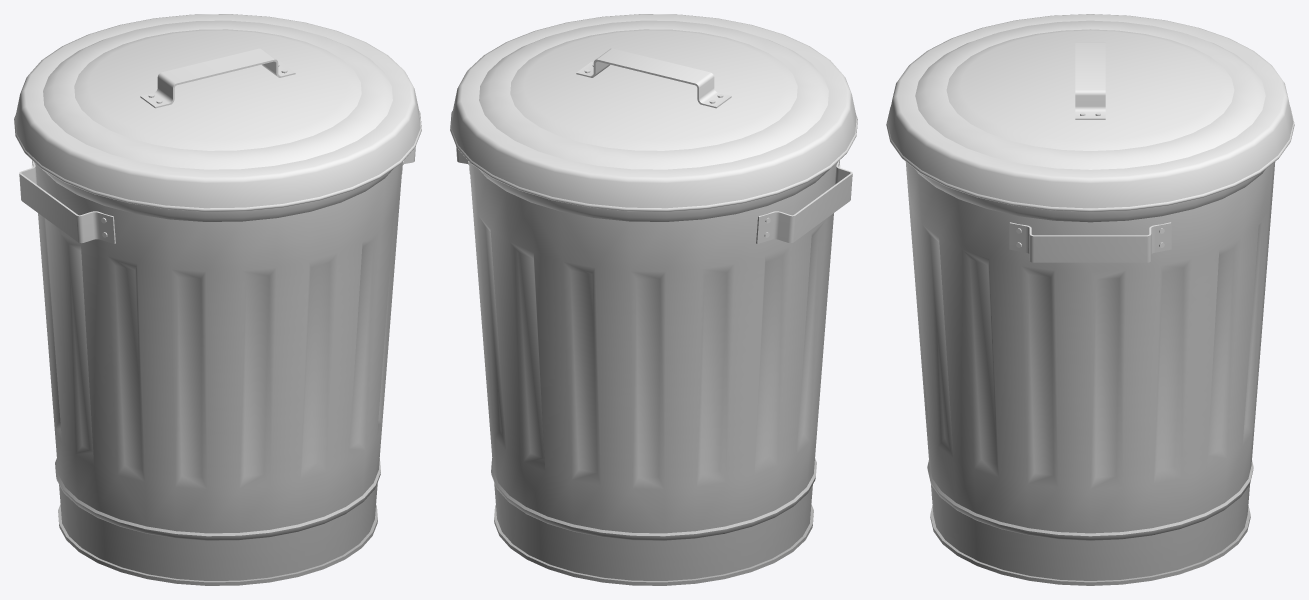
File: metal_garbage_can_01_medium.glb
3 renders of one model, left to right at view 1: azimuth 30°, elevation 25°; view 2: azimuth 150°, elevation 25°; view 3: azimuth 270°, elevation 25°, orthographic.
Parts seen in each view (by area): view 1: metal_garbage_can_01_medium; view 2: metal_garbage_can_01_medium; view 3: metal_garbage_can_01_medium.
Part boxes in pixels (bbox=[...]): metal_garbage_can_01_medium: bbox=[14, 14, 421, 585]; metal_garbage_can_01_medium: bbox=[450, 14, 857, 585]; metal_garbage_can_01_medium: bbox=[886, 14, 1294, 585].
Size of the model in its own units: 0.4034 by 0.4928 by 0.4034.
Materials: 1 (1 with a texture image).
